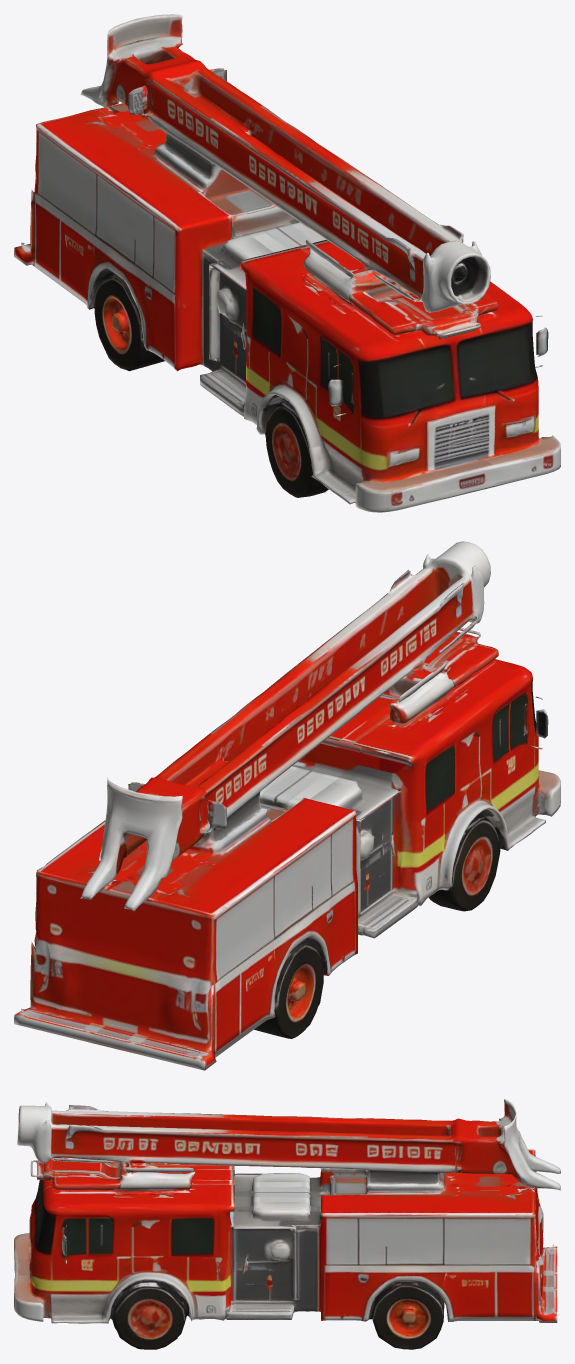
3 views of the same model, one above another, from view 1: azimuth 30°, elevation 25°; view 2: azimuth 150°, elevation 25°; view 3: azimuth 270°, elevation 25° (orthographic). The views are drawn at different scales.
Parts seen in each view (by area): view 1: Object_2; view 2: Object_2; view 3: Object_2.
Part boxes in pixels (x1,y1,x2,y2): Object_2: (14, 14, 560, 512); Object_2: (14, 541, 560, 1070); Object_2: (14, 1099, 560, 1349).
Bounding box in the file's own units: 0.6565 × 0.798 × 1.89.
1 material, 1 textured.
